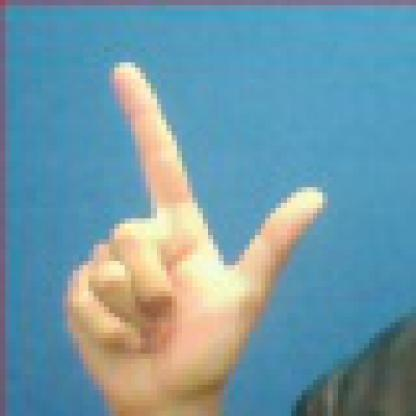seven: (44, 49, 330, 415)
